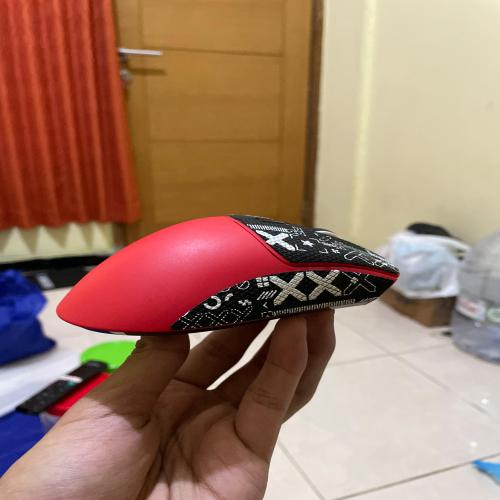Mouse: (47, 204, 414, 341)
